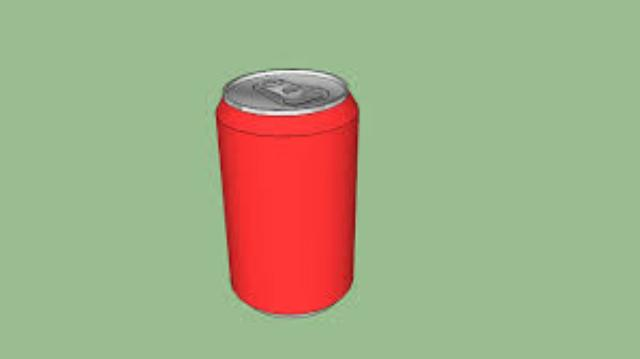metal: (214, 66, 353, 310)
